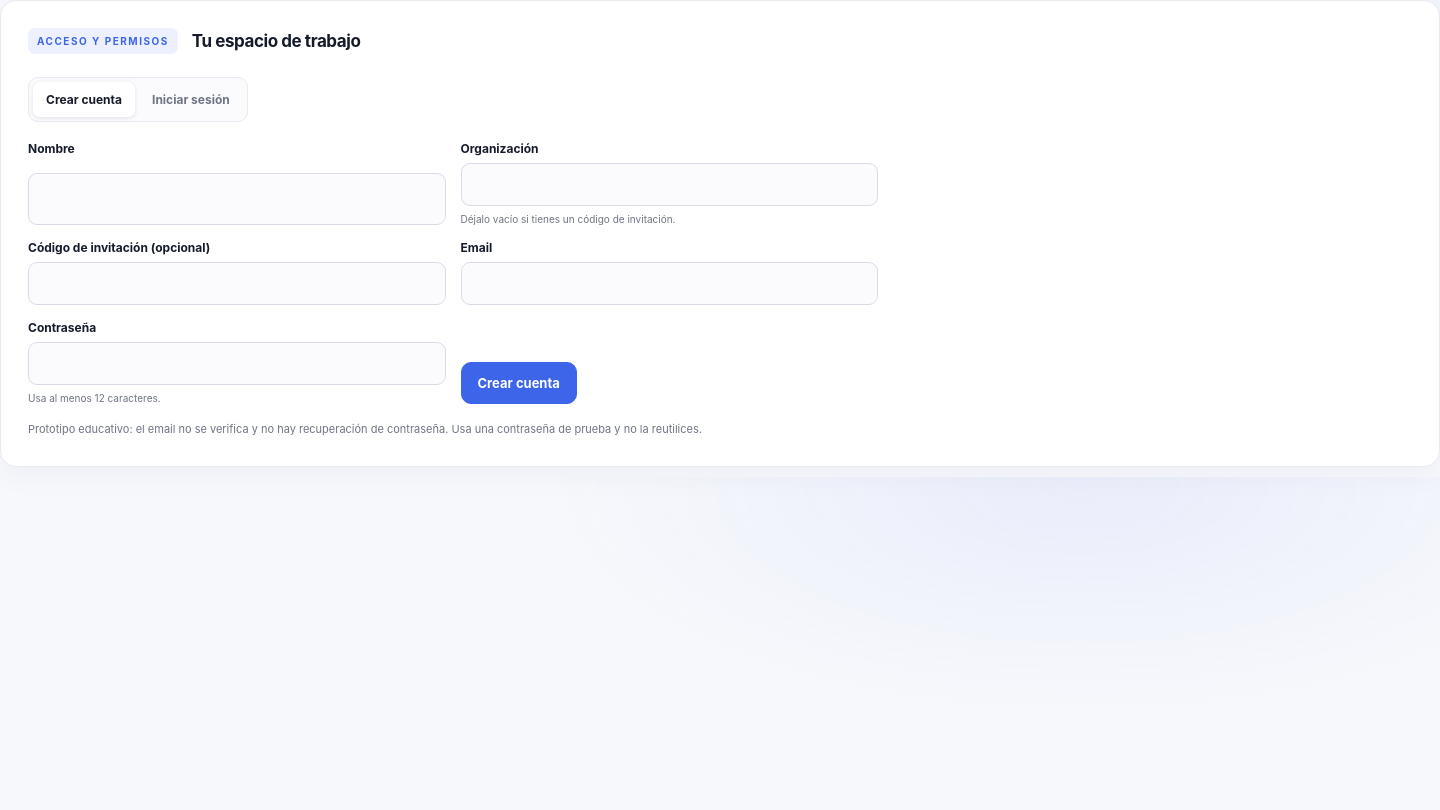
Test: AuthPanel › registers an organization owner and loads the authorized member list
The width and height of the screenshot is (1440, 810).
In the field labelled "Nombre": (237, 199) [28,172,446,225], type "Propietaria"
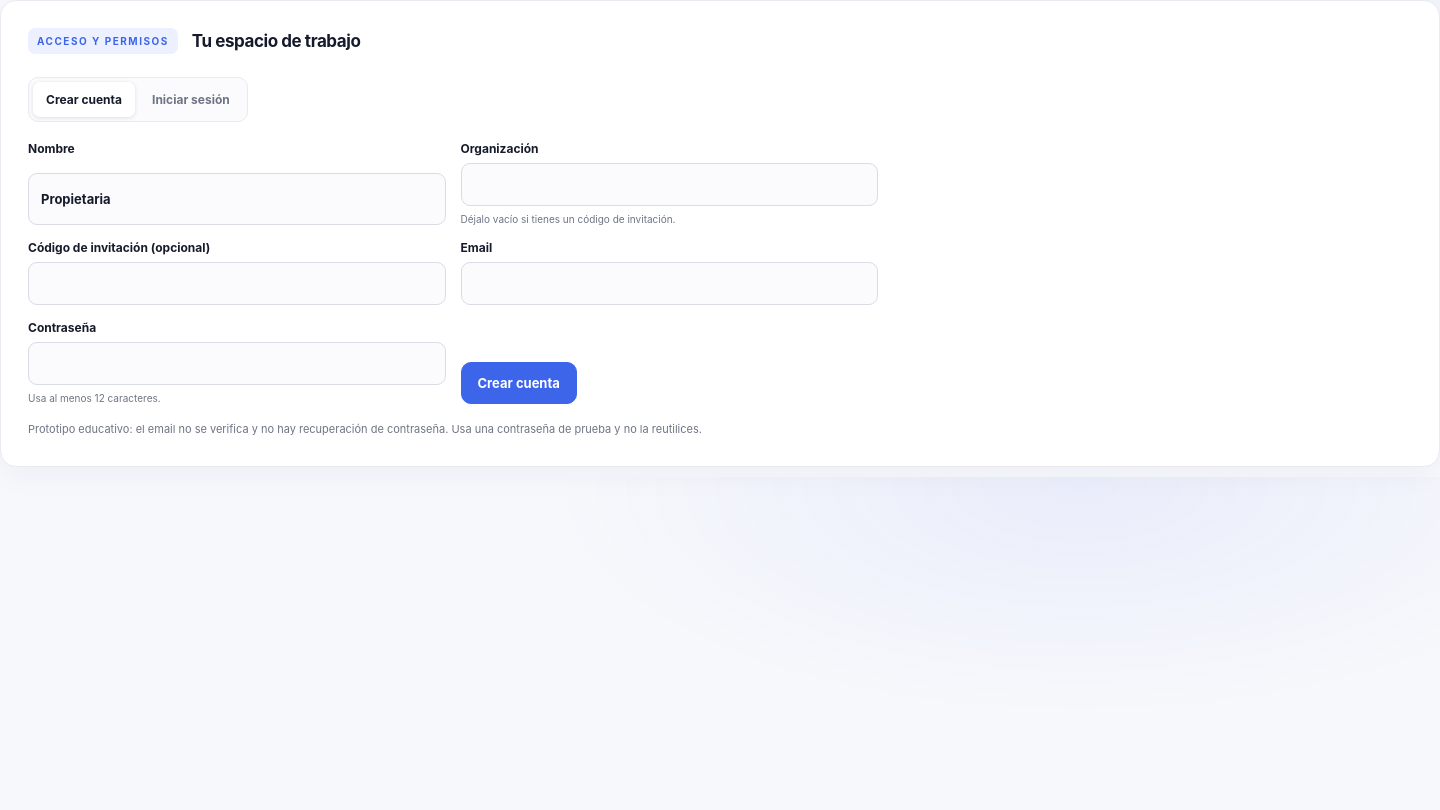
In the field labelled "Organización Déjalo vacío si tienes un código de invitación.": (669, 184) [460,163,878,206], type "Equipo"
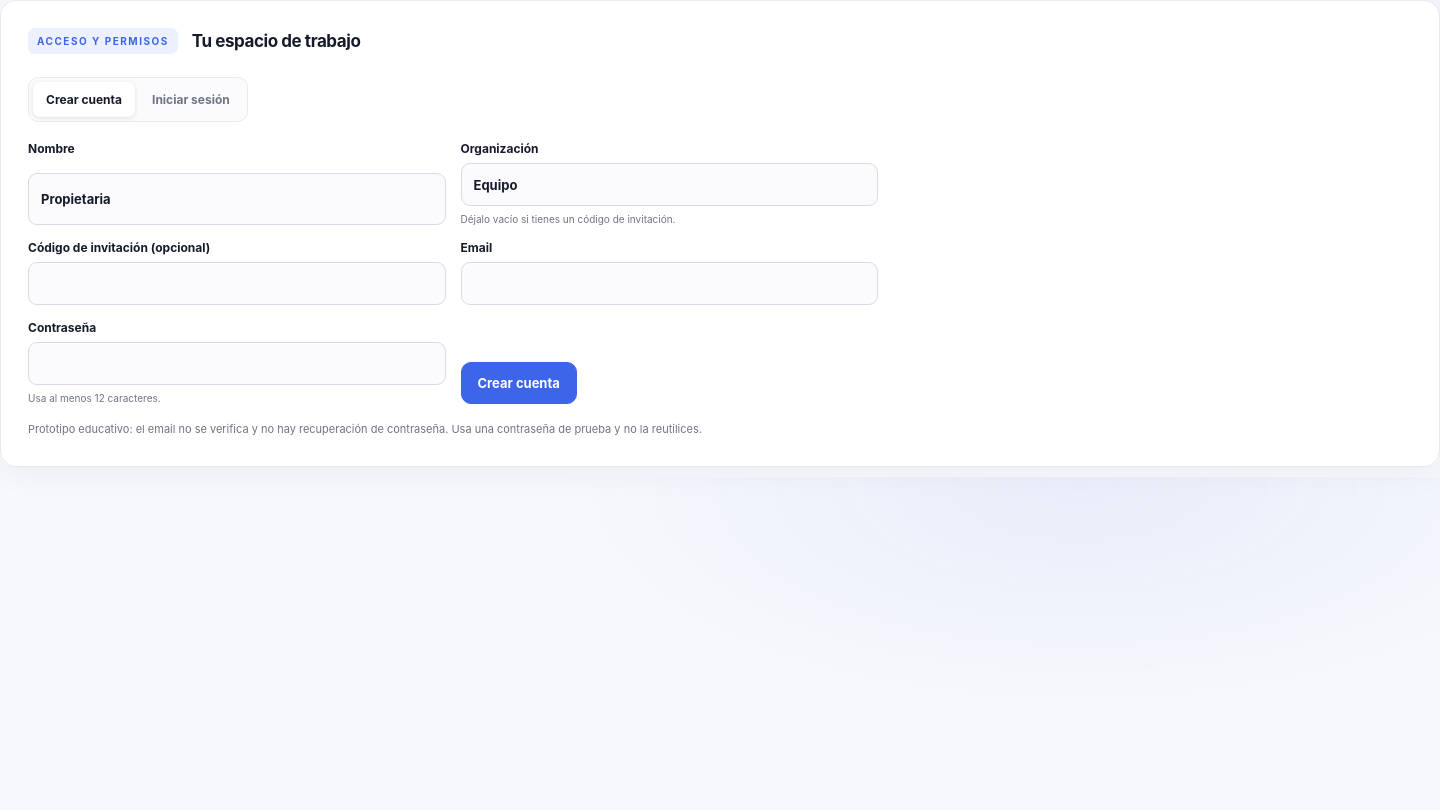
In the field labelled "Email": (669, 284) [460,262,878,305], type "owner@example.com"
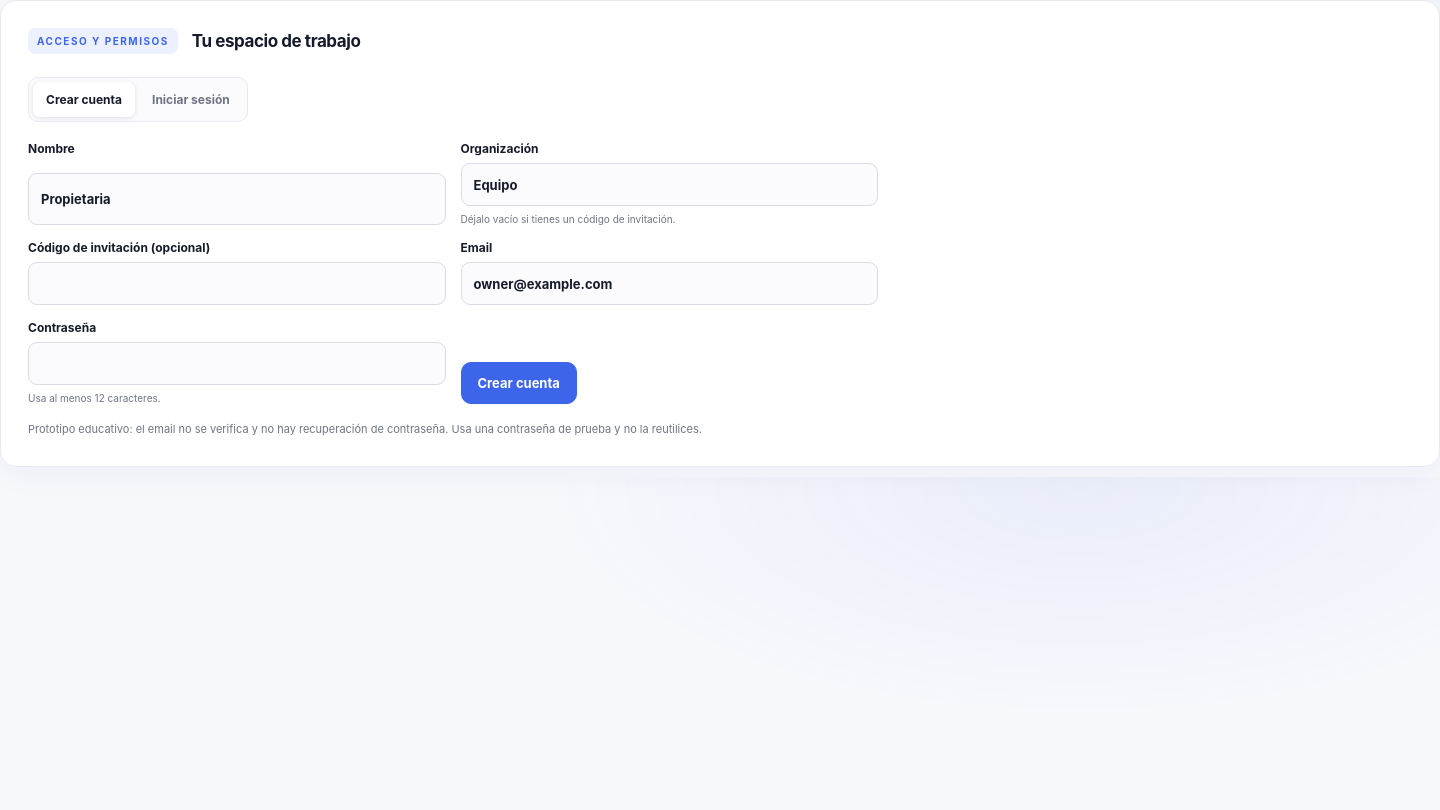
In the password field labelled "Contraseña Usa al menos 12 caracteres.": (237, 364) [28,342,446,385], type "correct-horse-battery-staple"
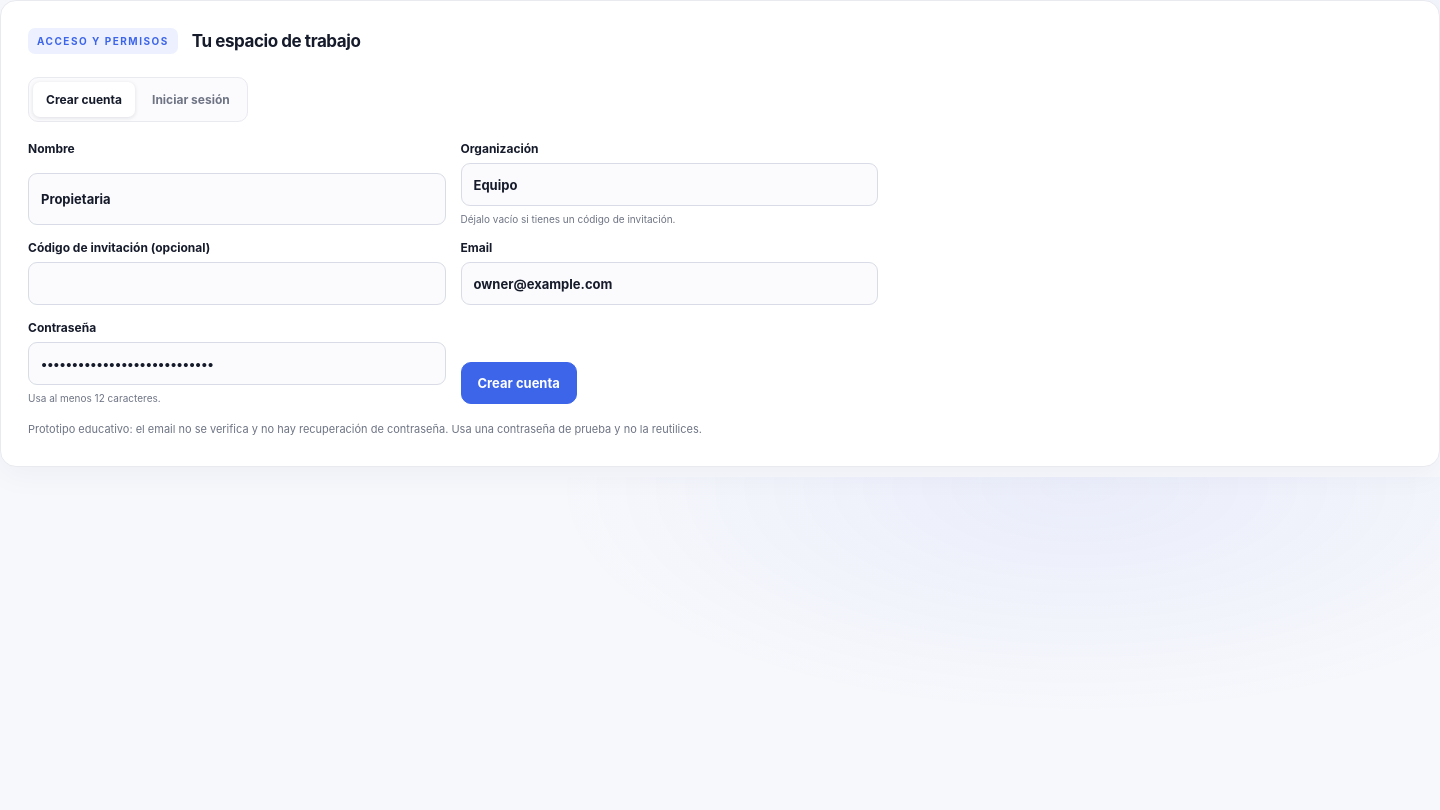
Click the button "Crear cuenta" in the row of "Usa al menos 12 caracteres.": (519, 383) [460,362,577,404]
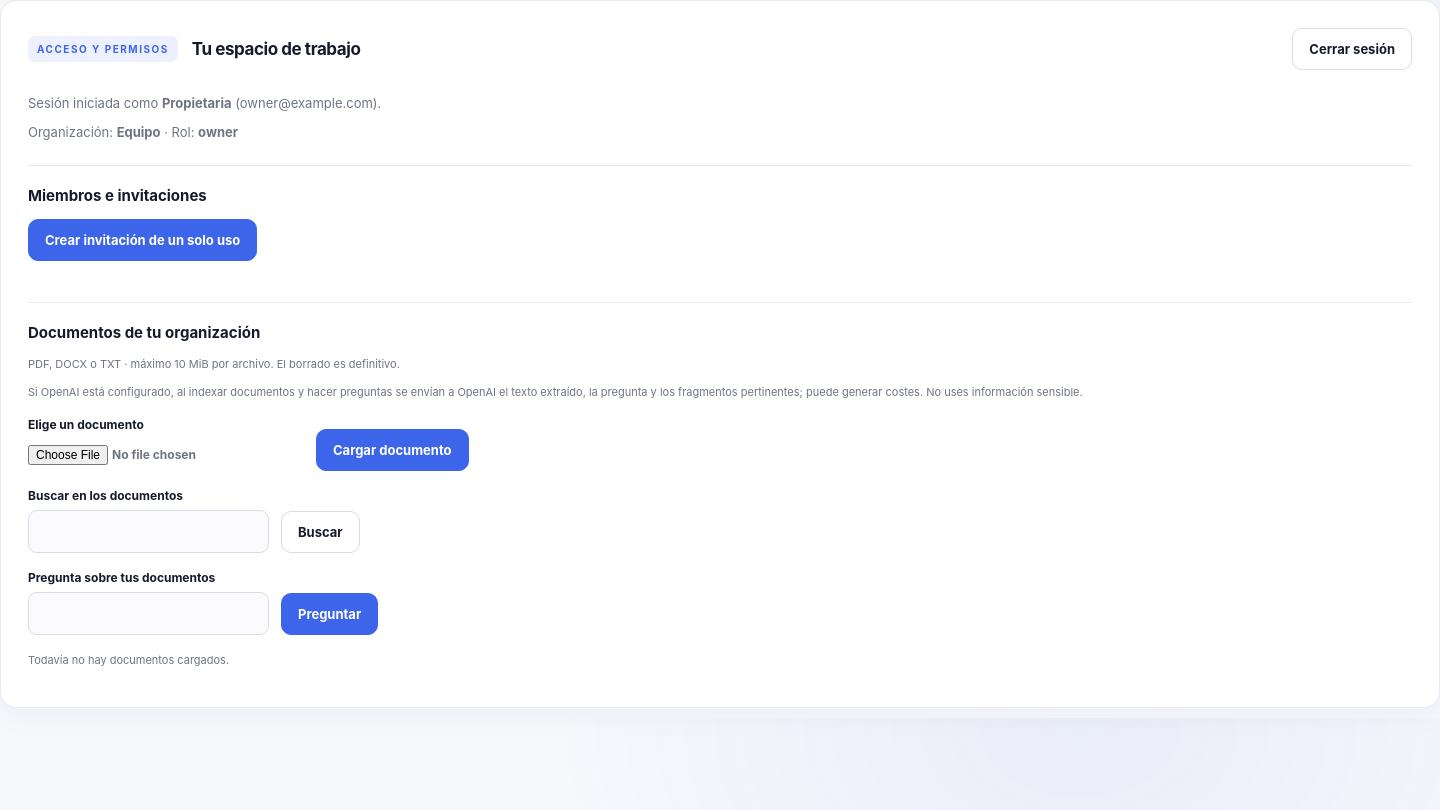
Result: the text "Sesión iniciada como Propietaria (owner@example.com)." is shown at [28,95,381,111]
Result: the text "Equipo" is shown at [117,124,161,140]
Result: the text "owner" is shown at [198,124,238,140]
